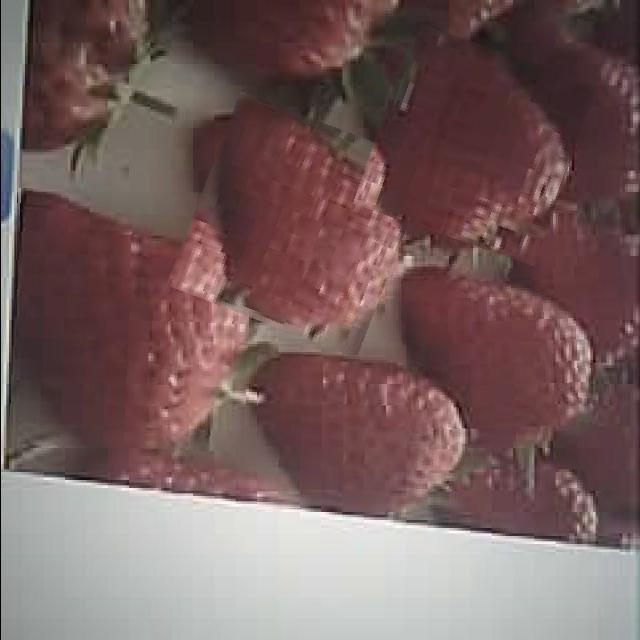strawberry: (11, 190, 250, 450), (180, 105, 414, 343), (364, 35, 582, 253), (400, 267, 590, 444), (256, 354, 461, 510)
